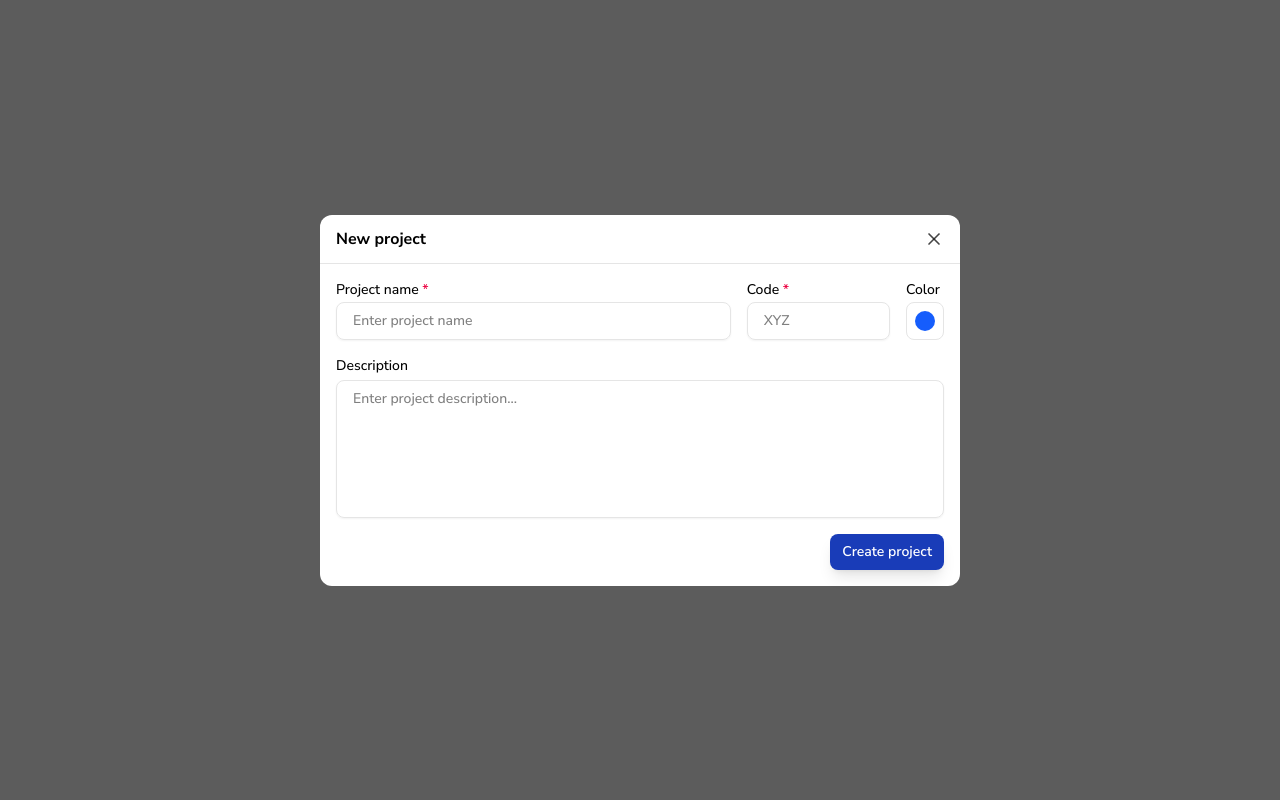
Scenario: CreateProjectModal › should show the error messages for required fields
Step 1. Click the button with aria-label "Create project button" → coordinates (887, 552), box [830,534,944,570]
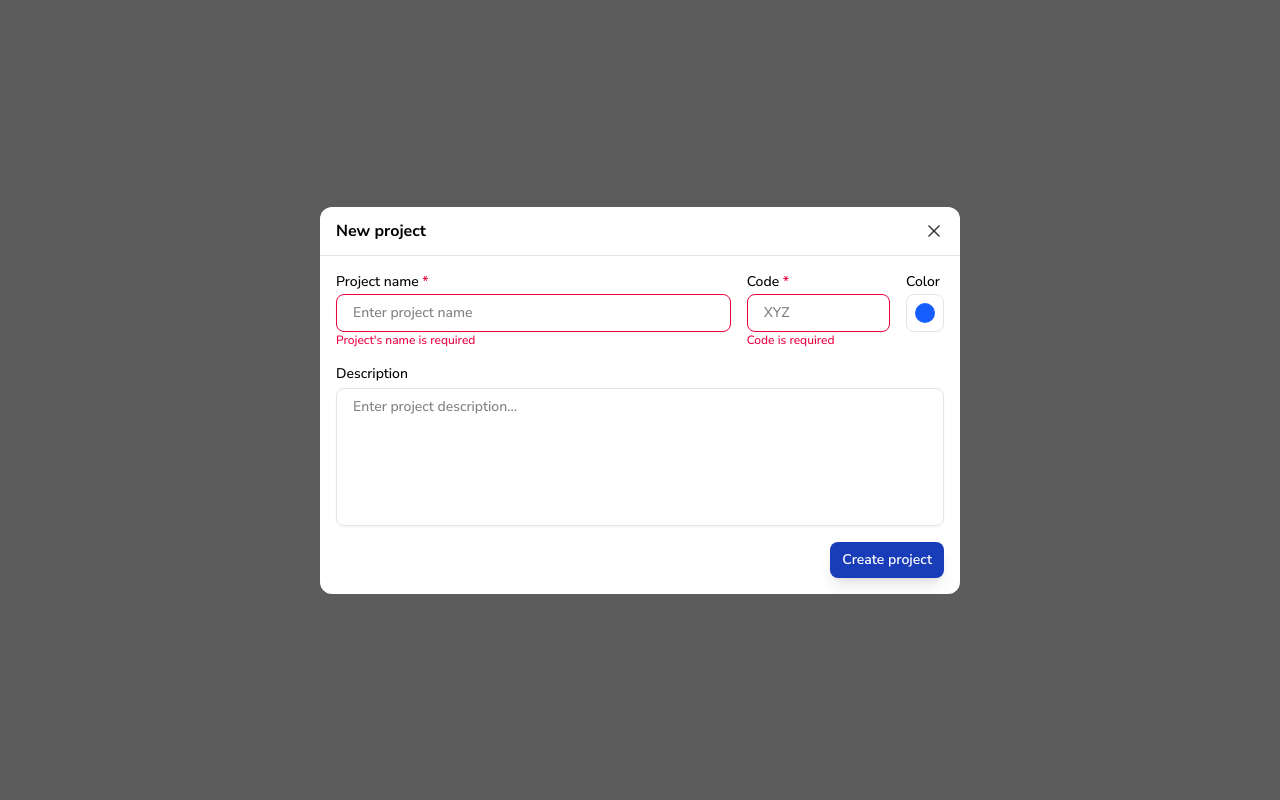
Check: the number of elements with test id "error-message" is 2, box [336,332,475,348]; [747,332,834,348]
Check: the text "Project's name is required" is shown, box [336,332,475,348]
Check: the text "Code is required" is shown, box [747,332,834,348]
